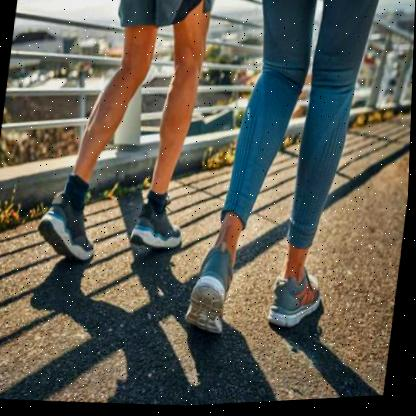person: (179, 0, 389, 355), (26, 0, 219, 285)
